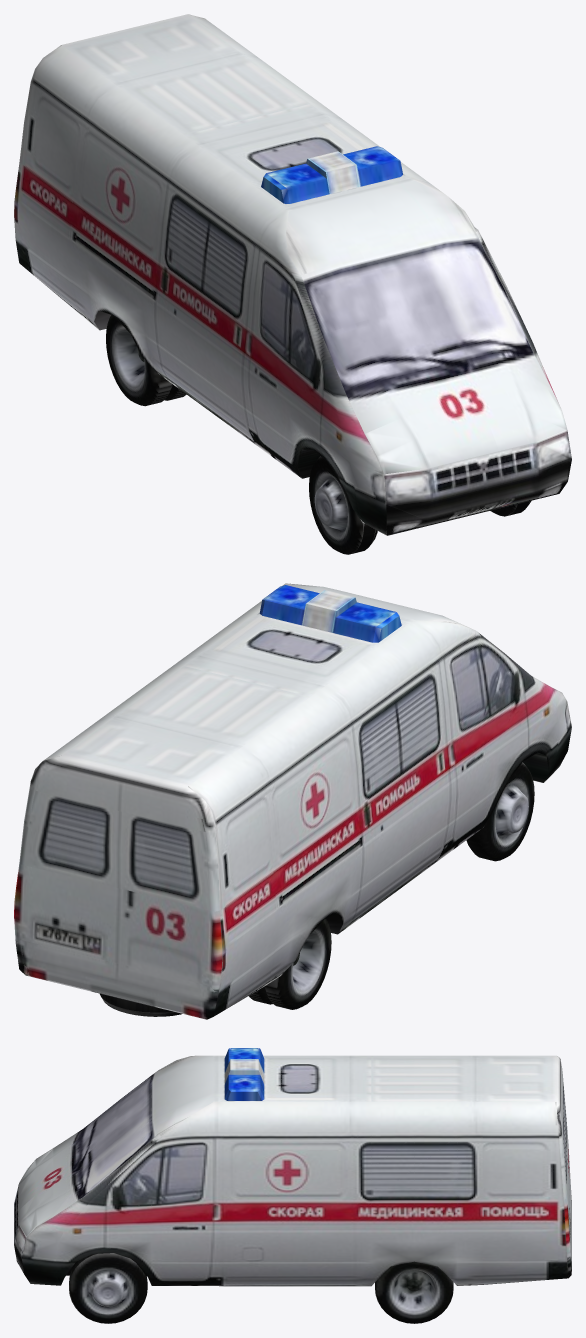
File: amb-gaz.glb
3 views of the same model, one above another, from view 1: azimuth 30°, elevation 25°; view 2: azimuth 150°, elevation 25°; view 3: azimuth 270°, elevation 25° (orthographic). The views are drawn at different scales.
Parts seen in each view (by area): view 1: object 5, object 9, object 8, lamp_head_R, lamp_head_L; view 2: object 5, object 9, object 8, object 7, lamp_tail_R; view 3: object 5, object 6, object 10.
Part boxes in pixels (x1,y1,x2,y2): object 5: (14, 14, 571, 535); object 9: (309, 456, 377, 554); object 8: (106, 315, 186, 406); lamp_head_R: (383, 455, 436, 493); lamp_head_L: (523, 419, 567, 464); object 5: (14, 583, 571, 1019); object 9: (466, 762, 534, 861); object 8: (249, 918, 331, 1009); object 7: (100, 993, 182, 1016); lamp_tail_R: (202, 924, 222, 964); object 5: (14, 1048, 571, 1286); object 6: (69, 1253, 147, 1323); object 10: (375, 1261, 453, 1323).
Bounding box in the file's own units: 0.3306 × 0.4511 × 1.
Materials: 1 (1 with a texture image).
